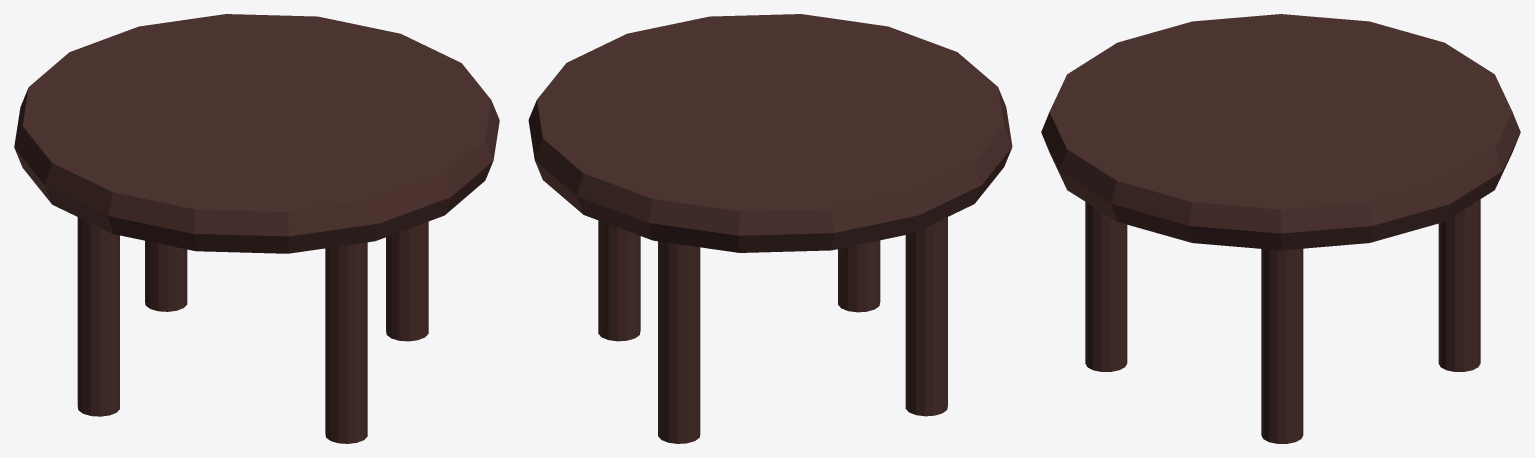
The model's file is mesa.fbx.
The picture shows the model from 3 angles, left to right: view 1: azimuth 30°, elevation 25°; view 2: azimuth 150°, elevation 25°; view 3: azimuth 270°, elevation 25°; orthographic projection. The views are drawn at different scales.
Parts seen in each view (by area): view 1: Circle, Cylinder, Cylinder.003, Cylinder.002, Cylinder.001; view 2: Circle, Cylinder.001, Cylinder.003, Cylinder.002, Cylinder; view 3: Circle, Cylinder.002, Cylinder.001, Cylinder.
Part boxes in pixels (left/top/right/bottom): Circle: left=14, top=14, right=499, bottom=253; Cylinder: left=325, top=242, right=367, bottom=443; Cylinder.003: left=77, top=217, right=119, bottom=416; Cylinder.002: left=386, top=221, right=428, bottom=341; Cylinder.001: left=145, top=240, right=187, bottom=311; Circle: left=528, top=14, right=1012, bottom=252; Cylinder.001: left=658, top=241, right=700, bottom=443; Cylinder.003: left=905, top=217, right=947, bottom=416; Cylinder.002: left=598, top=220, right=640, bottom=341; Cylinder: left=838, top=240, right=880, bottom=312; Circle: left=1041, top=14, right=1520, bottom=250; Cylinder.002: left=1261, top=248, right=1303, bottom=443; Cylinder.001: left=1438, top=199, right=1480, bottom=371; Cylinder: left=1085, top=202, right=1127, bottom=371.
Bounding box in the file's own units: 205 × 119 × 205.
